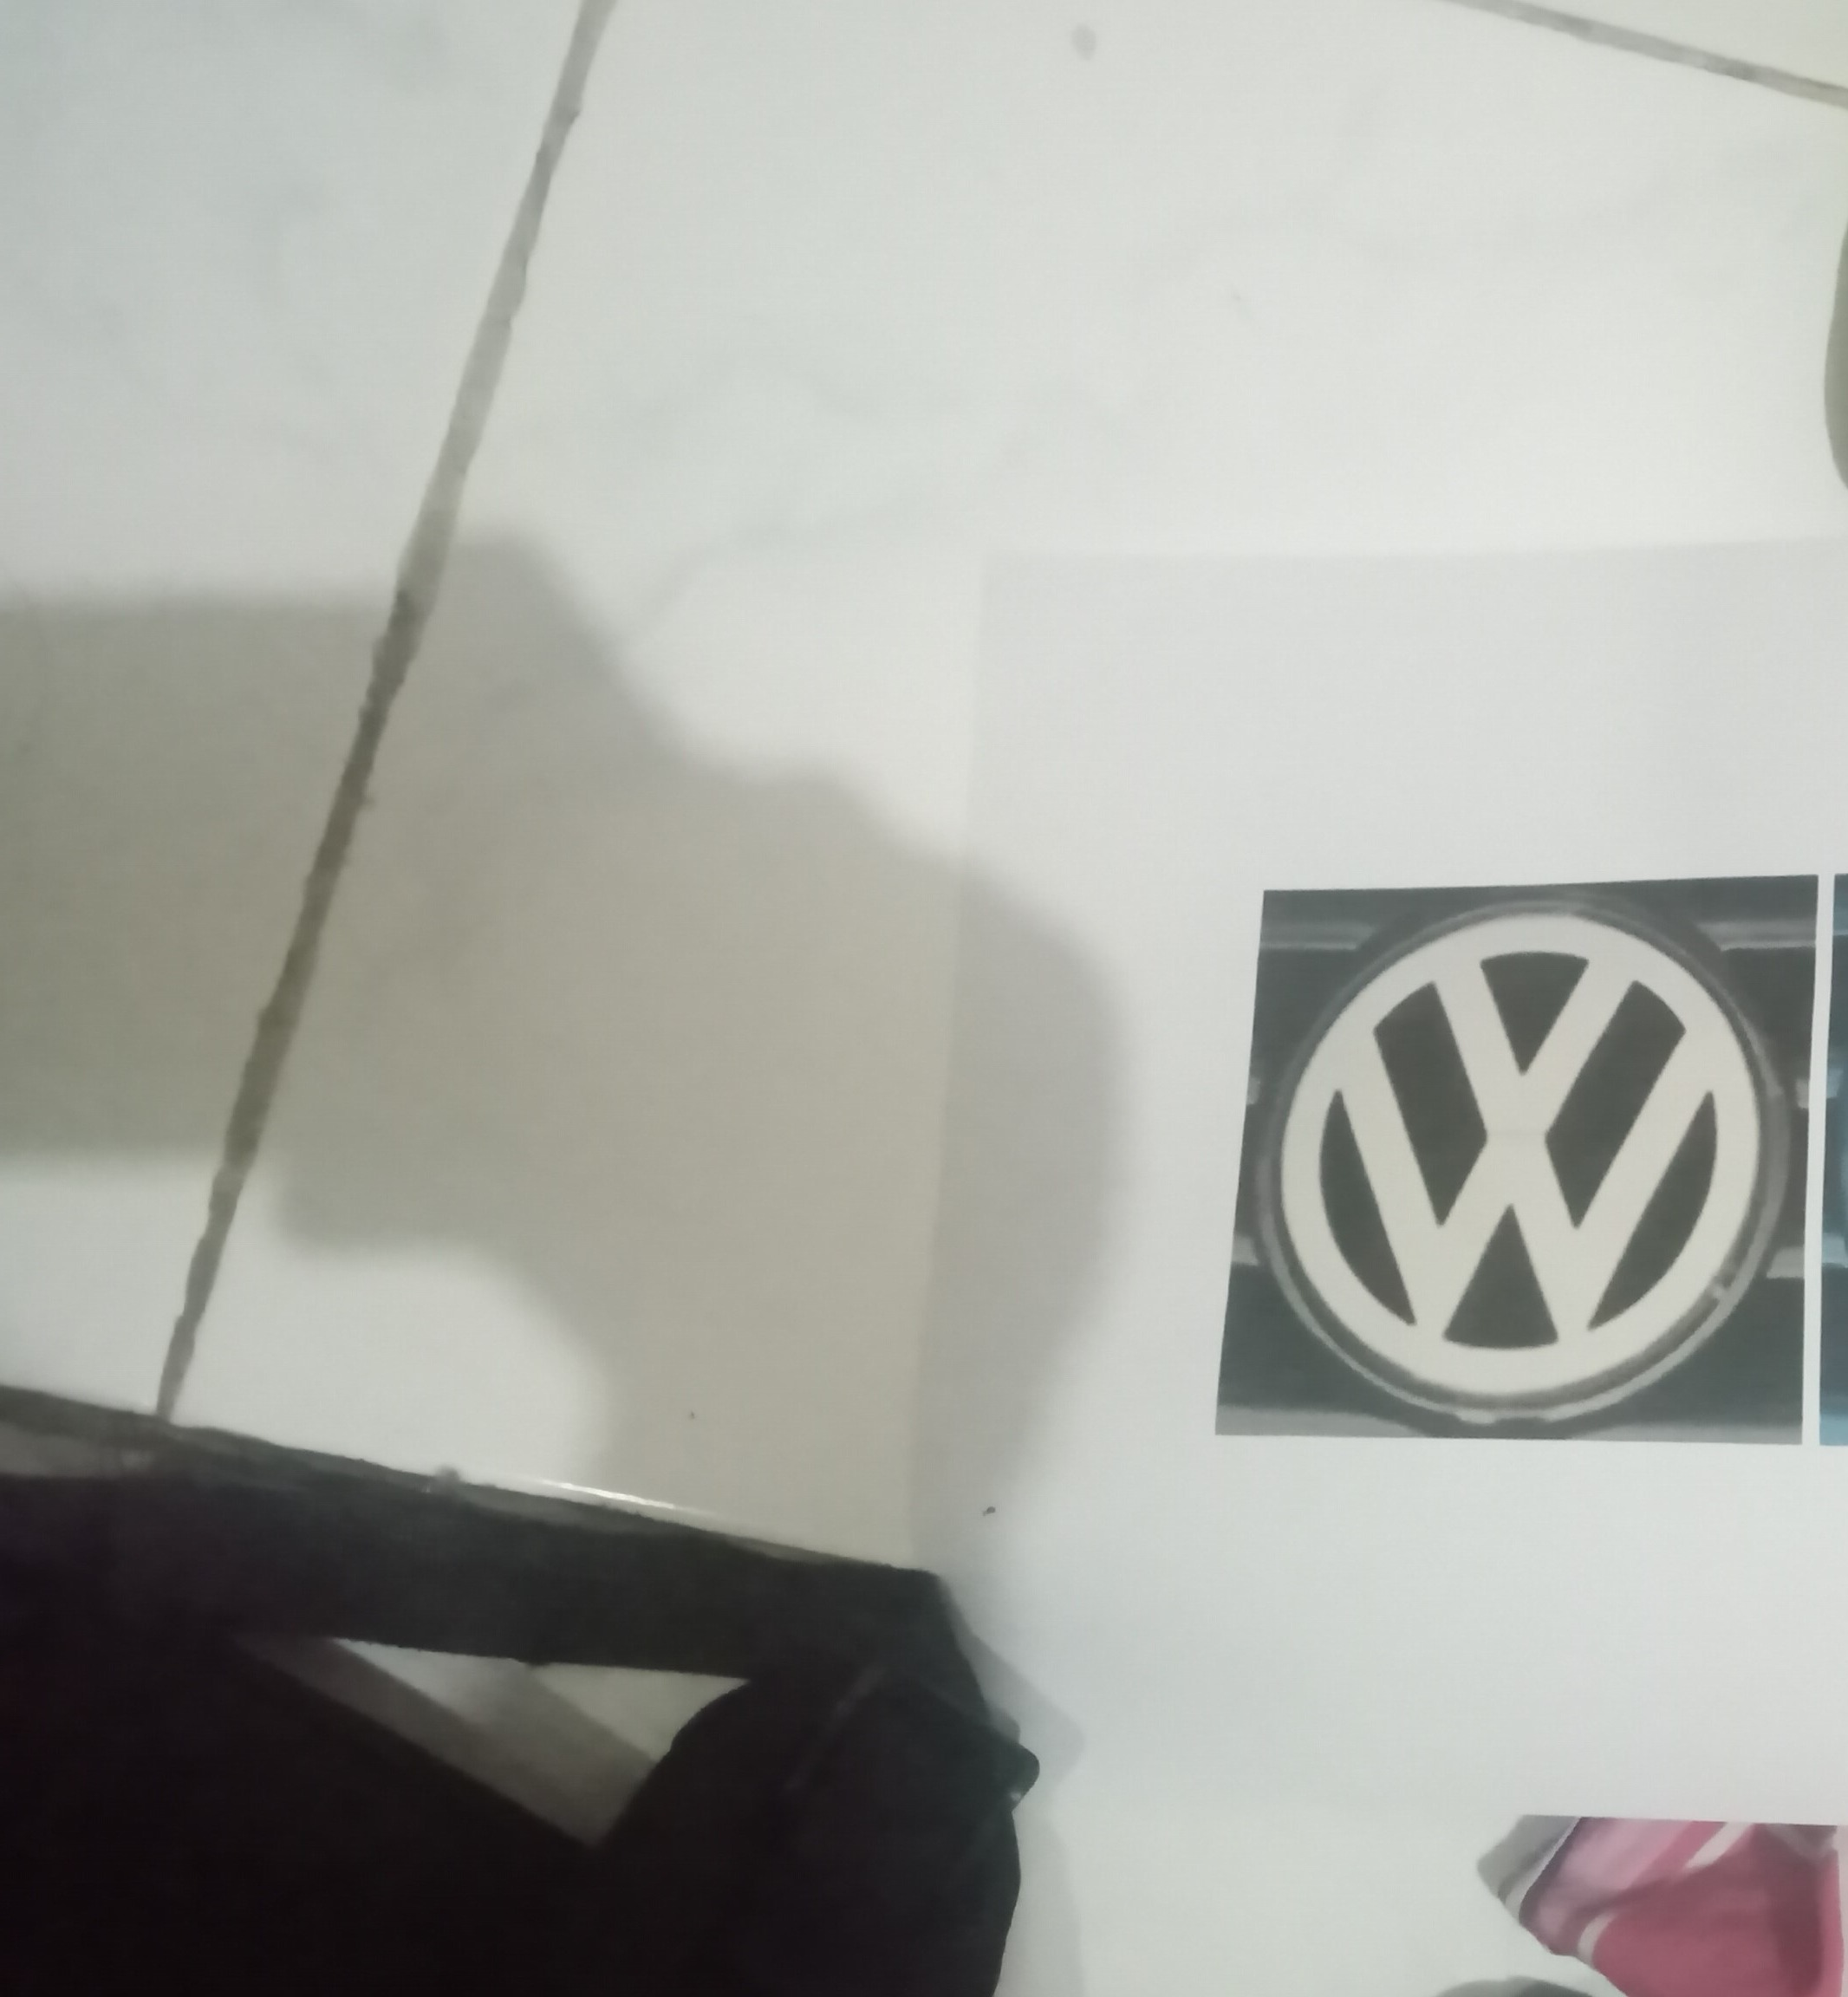Volkswagen: (1265, 901, 1782, 1413)
